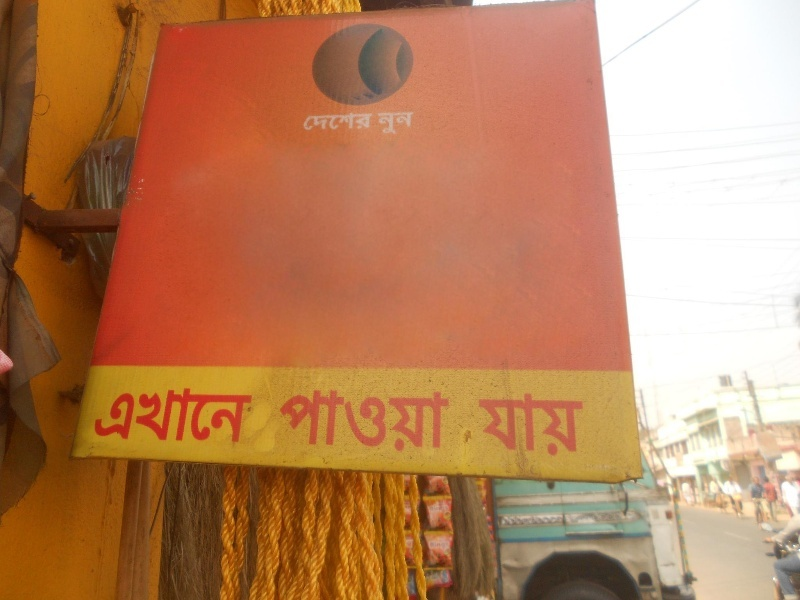text: (273, 385, 288, 454), (289, 385, 304, 454), (305, 385, 320, 454), (321, 385, 336, 454), (337, 385, 352, 454), (353, 385, 368, 454), (369, 385, 384, 454), (385, 385, 400, 454), (401, 385, 416, 454), (417, 385, 432, 454), (433, 385, 448, 454), (481, 390, 496, 459), (497, 390, 512, 459), (513, 390, 528, 459), (529, 390, 544, 459), (545, 390, 560, 459), (561, 390, 576, 459), (113, 382, 128, 445), (129, 382, 144, 445), (145, 382, 160, 445), (161, 382, 176, 445), (177, 382, 192, 445), (193, 382, 208, 445), (209, 382, 224, 445), (225, 382, 240, 445), (241, 382, 256, 445), (99, 382, 112, 445), (577, 390, 586, 459), (472, 390, 480, 459), (449, 385, 456, 454), (385, 109, 400, 137), (401, 109, 416, 137), (305, 109, 320, 131), (321, 109, 336, 131), (337, 109, 352, 131), (353, 109, 368, 131), (376, 109, 384, 137), (369, 109, 377, 131), (257, 382, 259, 445), (417, 109, 418, 137), (303, 109, 304, 131)
